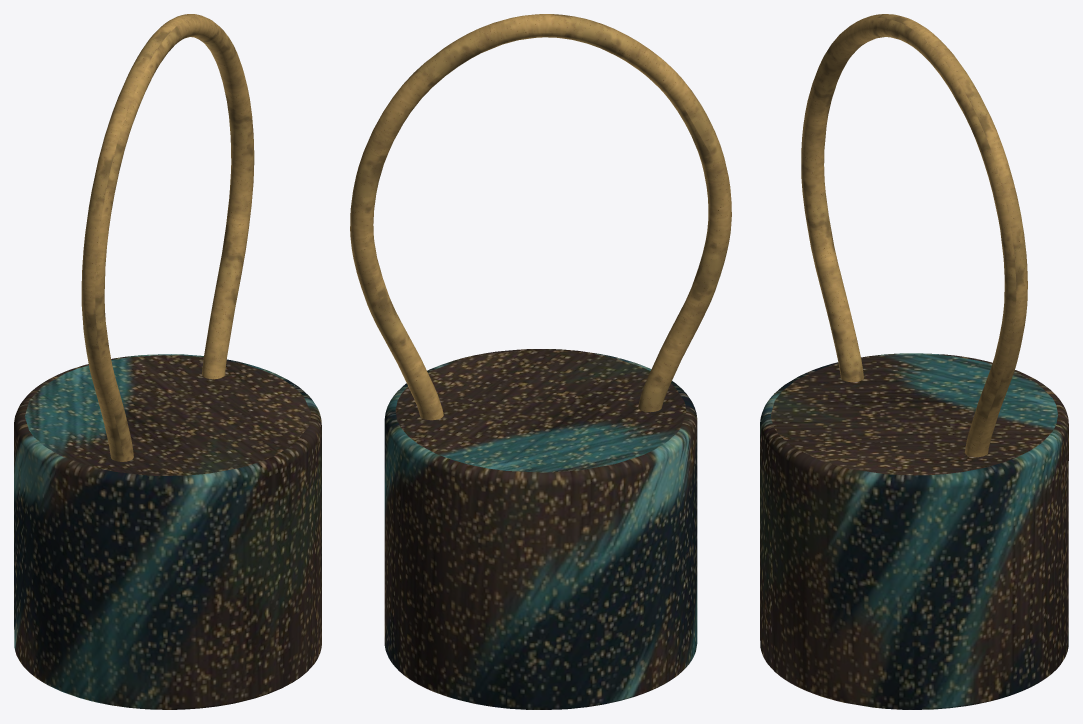
File: rook-black.glb
3 renders of one model, left to right at view 1: azimuth 30°, elevation 25°; view 2: azimuth 150°, elevation 25°; view 3: azimuth 270°, elevation 25°, orthographic.
Parts seen in each view (by area): view 1: Telo, Oblouk; view 2: Telo, Oblouk; view 3: Telo, Oblouk.
Boxes of the visible parts, left/top/right/bottom form: Telo: left=14, top=354, right=321, bottom=709; Oblouk: left=81, top=14, right=254, bottom=461; Telo: left=384, top=349, right=697, bottom=709; Oblouk: left=350, top=14, right=731, bottom=420; Telo: left=760, top=353, right=1068, bottom=709; Oblouk: left=801, top=14, right=1027, bottom=457.
Bounding box in the file's own units: 0.6497 × 1.42 × 0.6385.
Materials: 2 (2 with a texture image).
